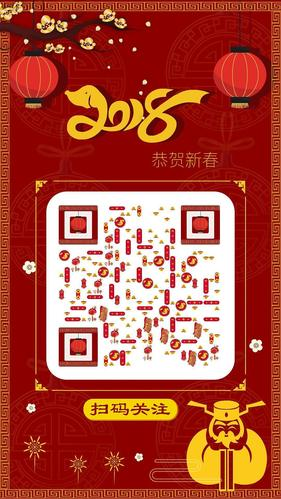QRCode: (53, 197, 226, 375)
